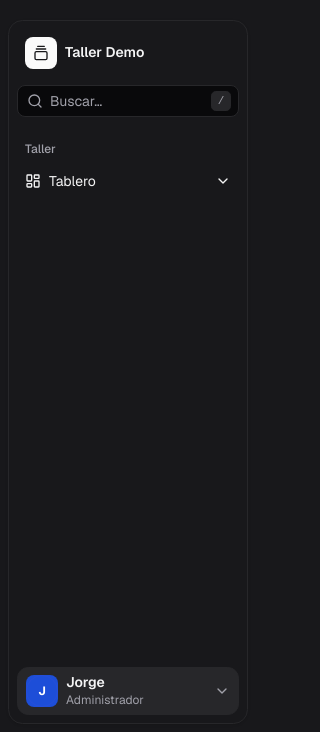
Scenario: AppSidebar — nav restyle (sidebar-redesign WU2) › while searching opens a saved-closed parent's matching children without writing the cookie, and Esc closes it again
Step 1. Type "clien" into the field named "Buscar en el menú" → (128, 101), box [17,85,239,117]
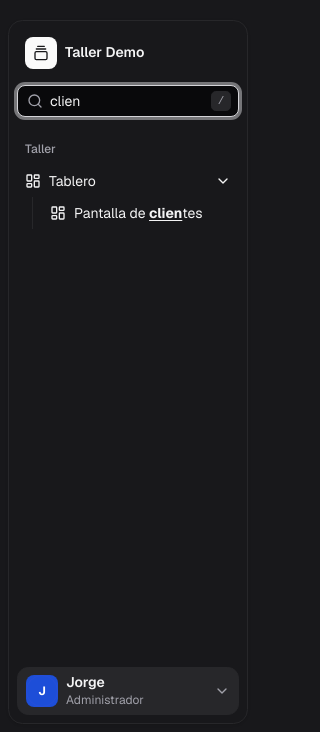
Expected: the link "Pantalla de clientes" is shown, [42,199,215,227]
Step 2. Press Escape
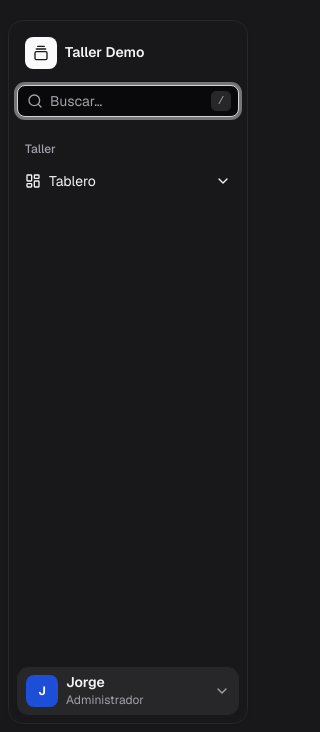
Expected: the link "Pantalla de clientes" is gone
